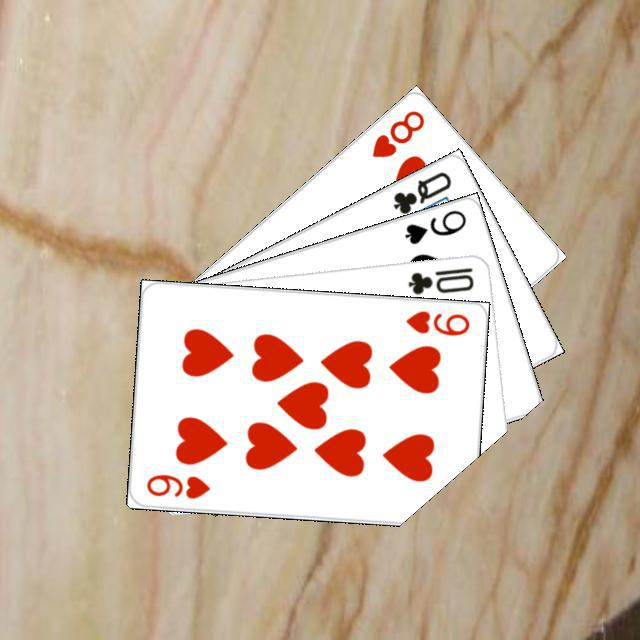10c: (403, 262, 476, 296)
8h: (367, 105, 427, 160)
9h: (400, 305, 471, 338), (141, 469, 212, 501)
9s: (400, 204, 468, 246)
Qc: (388, 166, 453, 227)
